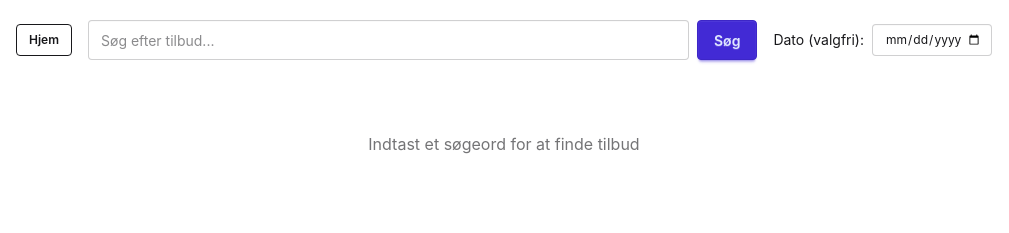
Test: SearchPage › shows all columns in the table header
Type "test" into the field with placeholder "Søg efter tilbud...".
click(388, 40); type("test")  # box [88, 20, 689, 60]
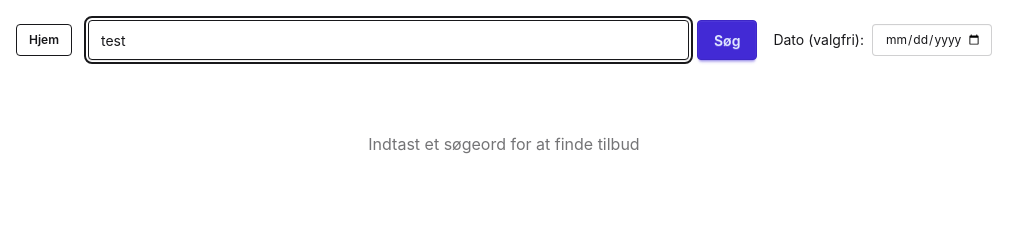
Click the button "Søg".
click(727, 40)  # box [697, 20, 757, 60]
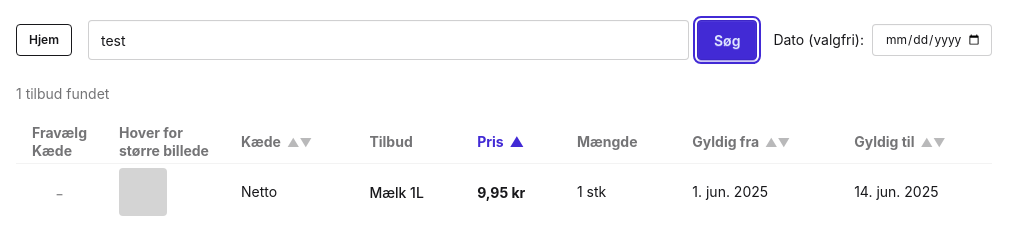
expect the column heading "Kæde" is shown: met, box [241, 133, 281, 150]
expect the column heading "Tilbud" is shown: met, box [353, 120, 461, 164]
expect the column heading "Pris" is shown: met, box [477, 133, 504, 150]
